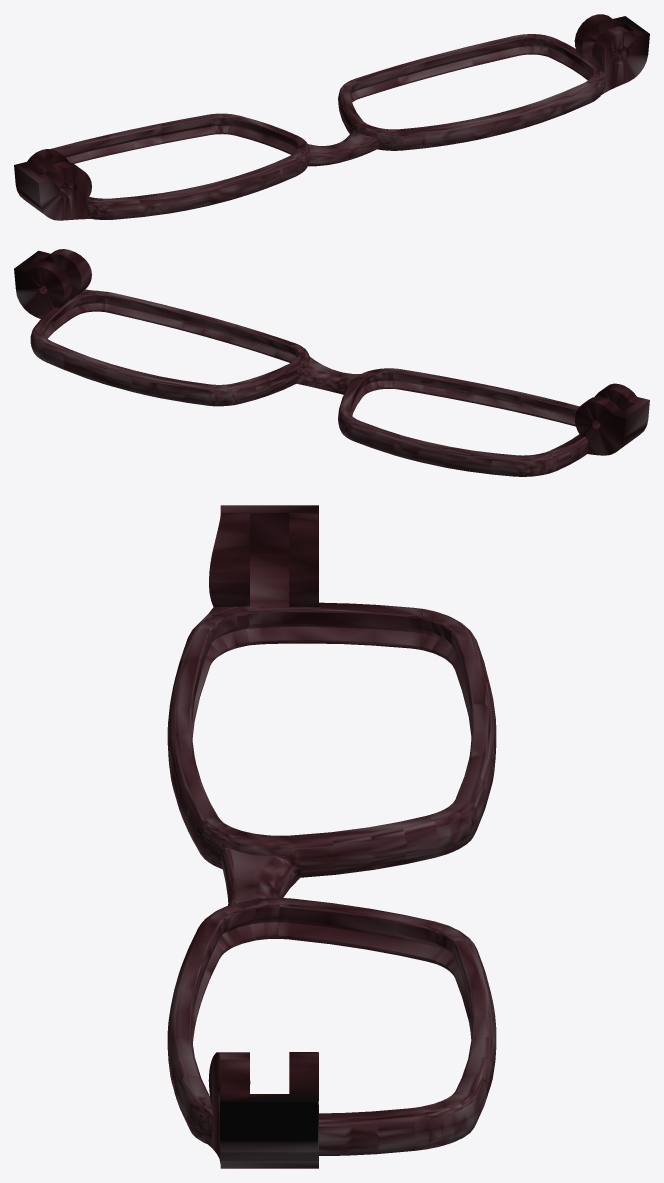
The model's file is eyeglass1_final100.obj.
The picture shows the model from 3 angles, top to bottom: view 1: azimuth 30°, elevation 25°; view 2: azimuth 150°, elevation 25°; view 3: azimuth 270°, elevation 25°; orthographic projection. The views are drawn at different scales.
Size of the model in its own units: 1.97 by 0.2014 by 0.4585.
